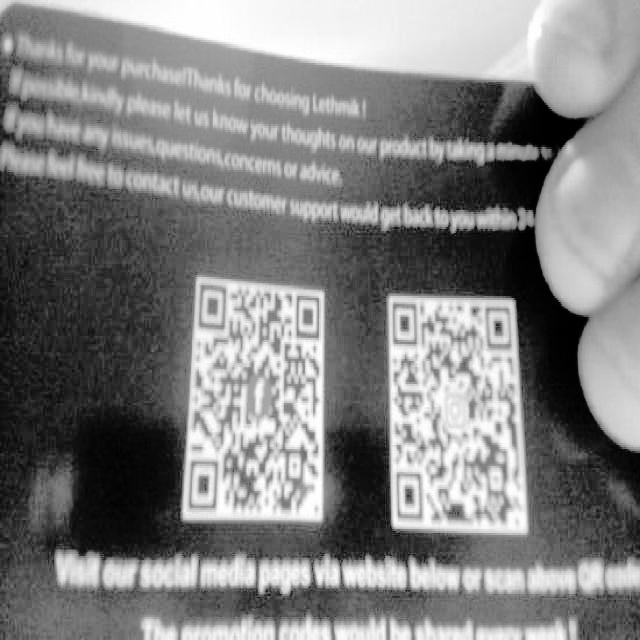qr_code: (375, 266, 536, 560), (175, 249, 331, 543)
